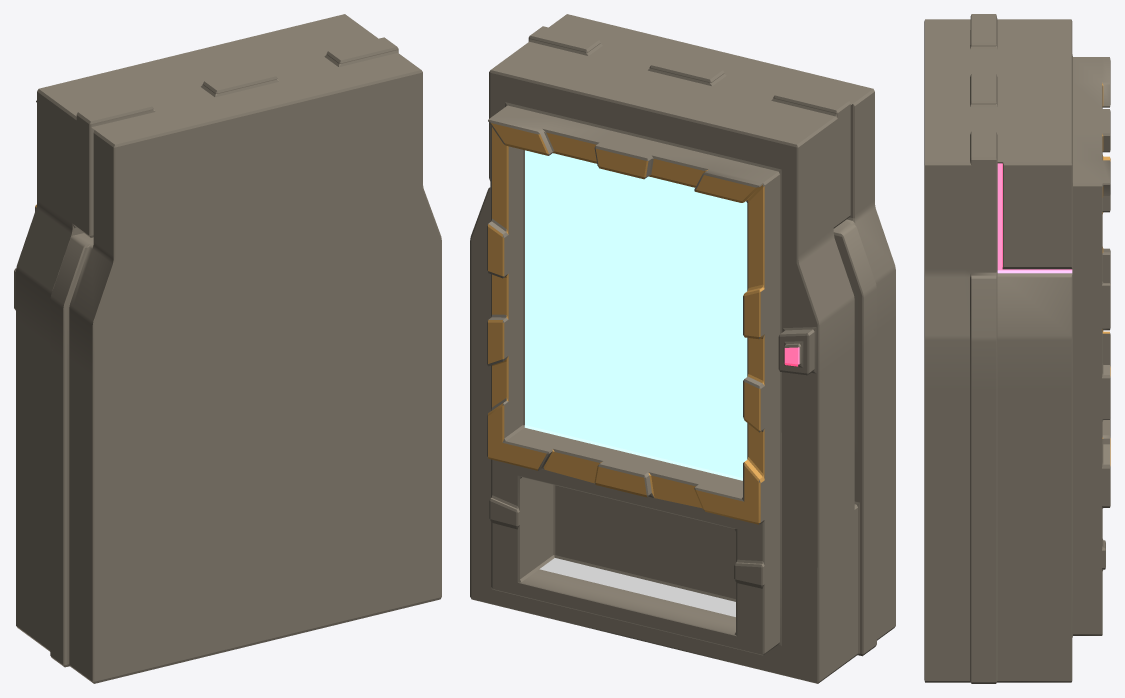
Rendered from VENDING_MACHINE.fbx.
The picture shows the model from 3 angles, left to right: view 1: azimuth 30°, elevation 25°; view 2: azimuth 150°, elevation 25°; view 3: azimuth 270°, elevation 25°; orthographic projection. The views are drawn at different scales.
Visible parts, largest first — view 1: Cube; view 2: Cube; view 3: Cube.
Boxes of the visible parts, <box> form: Cube: <box>14,14,441,683</box>; Cube: <box>470,14,895,683</box>; Cube: <box>924,14,1110,683</box>.
Bounding box in the file's own units: 370 × 533 × 174.
